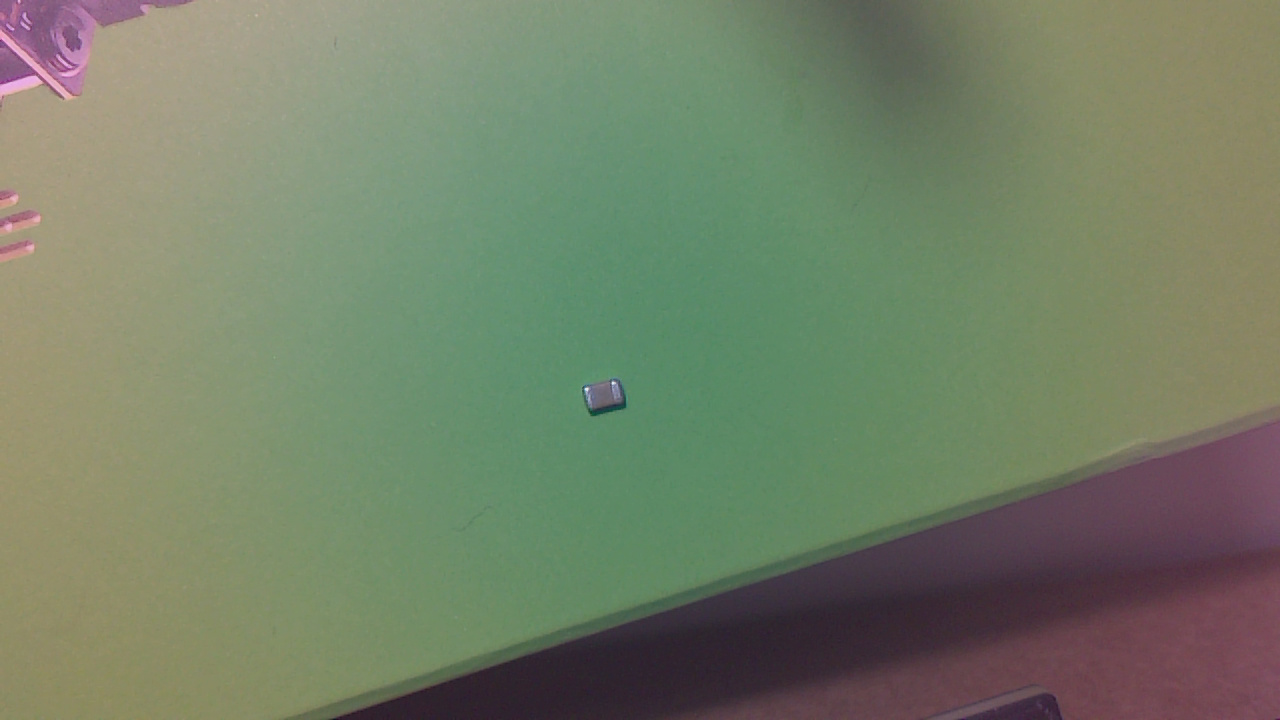Condensator: (584, 377, 636, 422)
